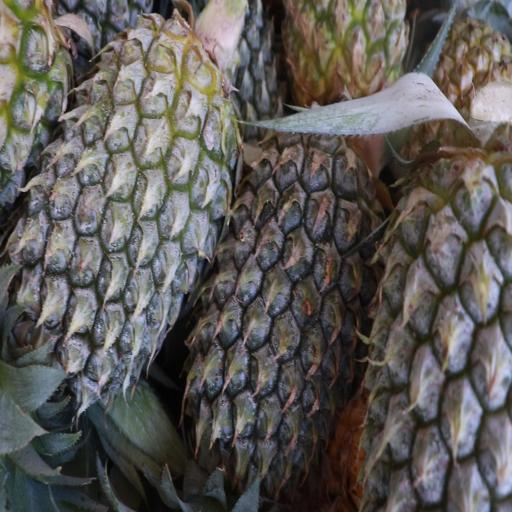------------------------------: (284, 0, 406, 104)
